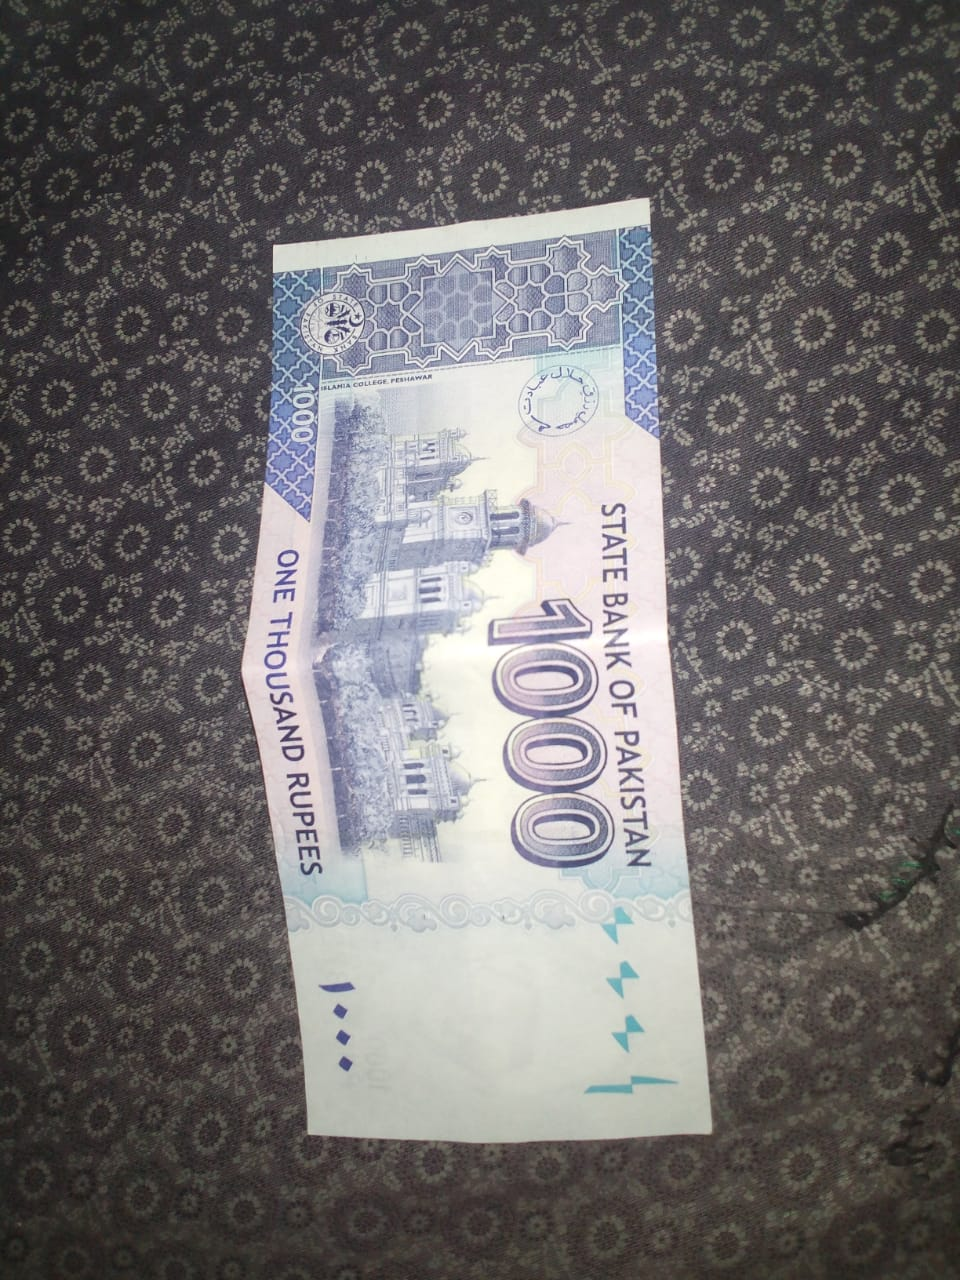1000 rupee: (219, 161, 771, 1226)
